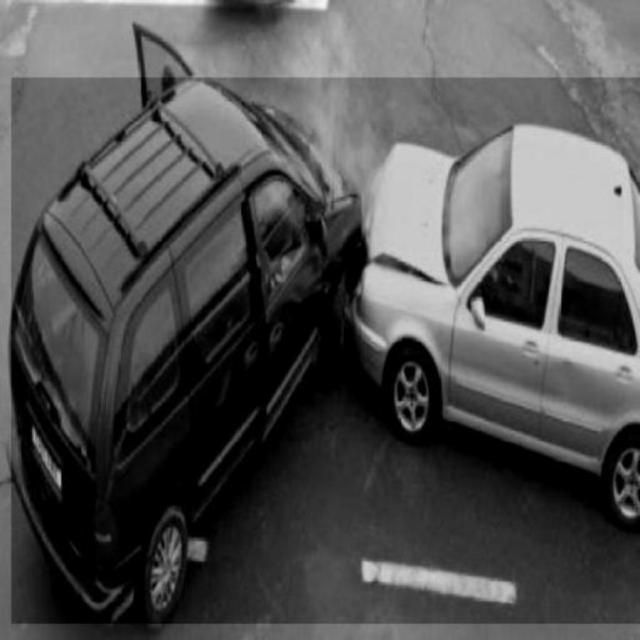accident: (11, 78, 639, 624)
